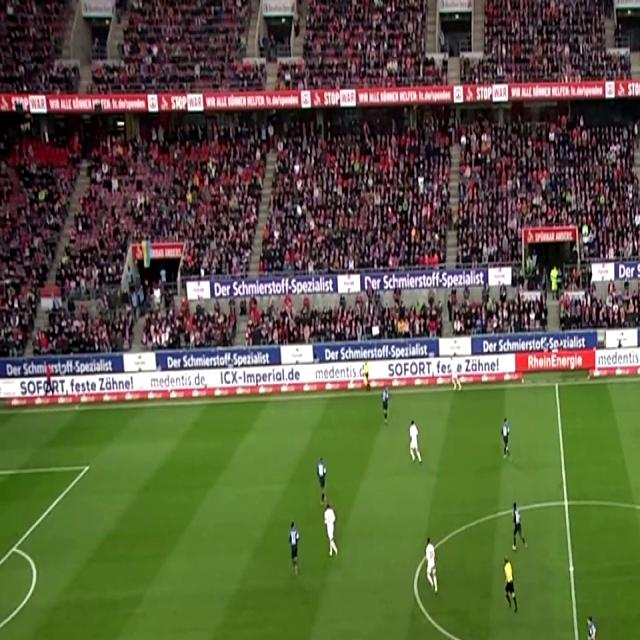referee: (500, 547, 523, 613), (362, 356, 372, 394)
soccer-player: (417, 532, 446, 600), (320, 498, 347, 562), (281, 515, 307, 578), (504, 497, 528, 554), (405, 417, 428, 470), (573, 607, 608, 640), (314, 452, 335, 506), (496, 414, 516, 465), (375, 384, 393, 429), (636, 399, 640, 450)
